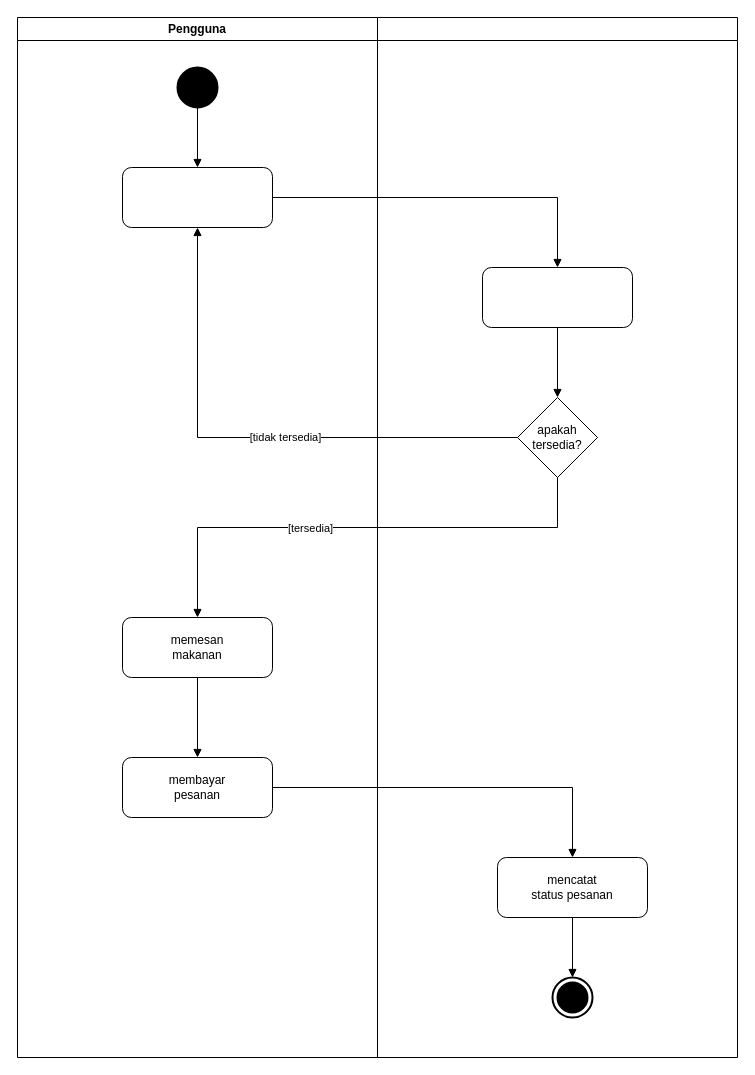
The diagram is 755 pixels wide and 1075 high, and some of its shapes have lost their labels. Each missing label, with the box of its shape:
Melihat daftar menu: (122, 166, 272, 228)
memeriksa ketersediaan menu: (482, 266, 632, 328)
Sistem: (376, 16, 738, 1058)
